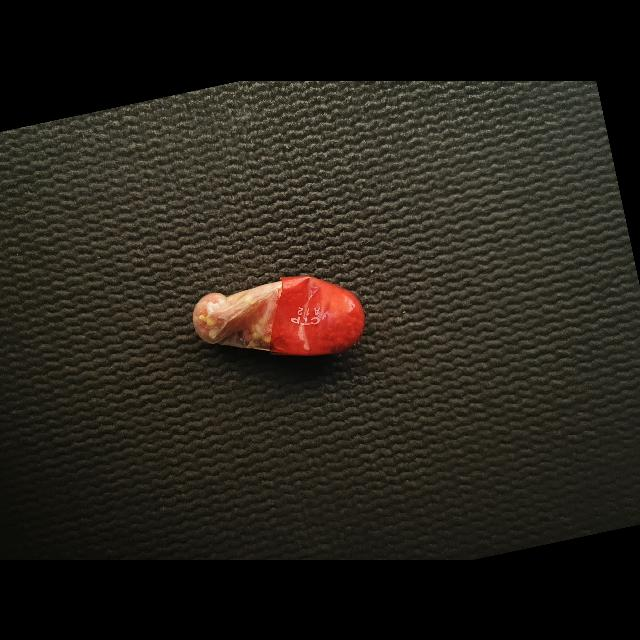Defective Capsule: (193, 276, 364, 355)
